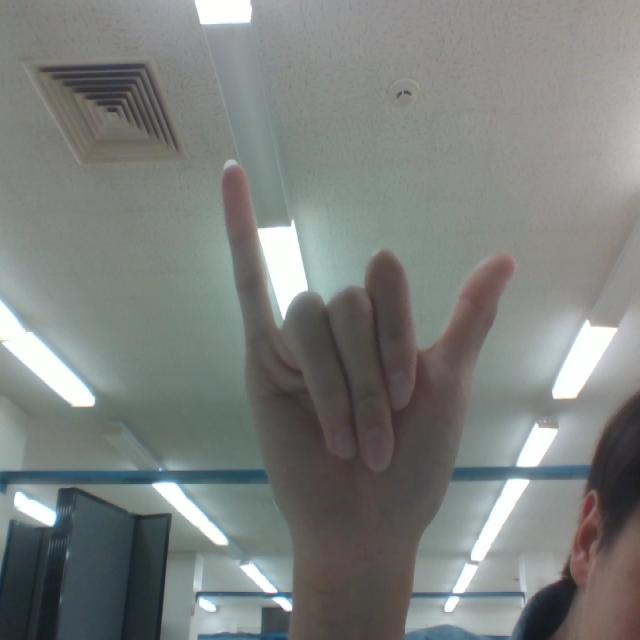Y: (186, 130, 537, 621)
